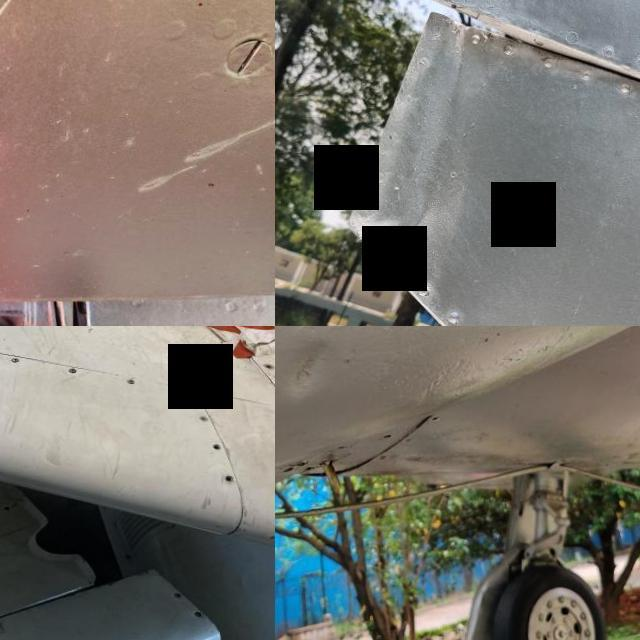Dent: (352, 190, 450, 268), (275, 326, 357, 412), (0, 100, 21, 197)
Missing_Fastener: (230, 472, 242, 480), (265, 362, 275, 369), (218, 442, 226, 449)
